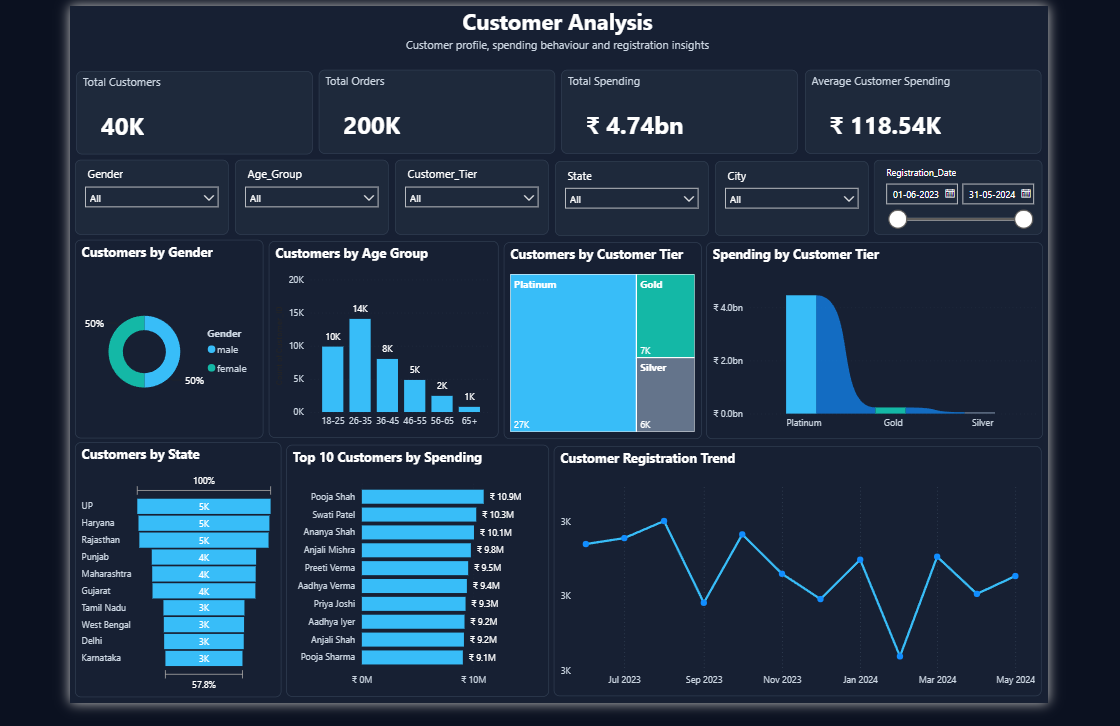

The dashboard page shown, as its layout file describes it:
{"tool":"powerbi","page":{"name":"Customer Analysis","canvas":[1304,930],"ordinal":0},"visuals":[{"type":"textbox","title":"Customer Analysis","box":[0,0,1300,76.1],"z":0},{"type":"cardVisual","title":"Total Customers","fields":{"Data":["_Measures.Total Customers"]},"box":[7.5,86.2,315,111.2],"z":1000},{"type":"cardVisual","title":"Total Orders","fields":{"Data":["_Measures.Total Customer Orders"]},"box":[332,85.7,315,112],"z":2000},{"type":"cardVisual","title":"Total Spending","fields":{"Data":["_Measures.Total Customer Spending"]},"box":[655.7,85.7,315,112],"z":3000},{"type":"cardVisual","title":"Average Customer Spending","fields":{"Data":["_Measures.Average Customer Spending"]},"box":[980,85.7,315,112],"z":4000},{"type":"donutChart","title":"Customers by Gender","fields":{"Category":["customers.Gender"],"Y":["Count(customers.Customer_ID)"]},"box":[6.9,311.1,251.4,265],"z":5000},{"type":"clusteredColumnChart","title":"Customers by Age Group","fields":{"Category":["customers.Age_Group"],"Y":["Count(customers.Customer_ID)"]},"box":[265,313.8,306.2,262],"z":6000},{"type":"treemap","title":"Customers by Customer Tier","fields":{"Group":["customers.Customer_Tier"],"Values":["Count(customers.Customer_ID)"]},"box":[577.8,315.3,263.9,262],"z":7000},{"type":"ribbonChart","title":"Spending by Customer Tier","fields":{"Category":["customers.Customer_Tier"],"Y":["_Measures.Total Customer Spending"]},"box":[848.6,315.3,449.2,262.5],"z":8000},{"type":"funnel","title":"Customers by State","fields":{"Category":["customers.State"],"Y":["_Measures.Total Customers"]},"box":[7.2,582.2,275,340.3],"z":9000},{"type":"clusteredBarChart","title":"Top 10 Customers by Spending","fields":{"Category":["customers.Customer_Name"],"Y":["_Measures.Total Customer Spending"]},"box":[288.9,584.7,350,335.8],"z":10000},{"type":"lineChart","title":"Customer Registration Trend","fields":{"Y":["Count(customers.Customer_ID)"],"Category":["customers.Registration_Date.Variation.Date Hierarchy.Year","customers.Registration_Date.Variation.Date Hierarchy.Month"]},"box":[645,586.7,650.7,333.3],"z":11000},{"type":"slicer","title":"Gender","fields":{"Values":["customers.Gender"]},"box":[7.4,204.6,205,100],"z":12000},{"type":"slicer","fields":{"Values":["customers.Age_Group"]},"box":[220,205,205,100],"z":13000},{"type":"slicer","fields":{"Values":["customers.Customer_Tier"]},"box":[434,205.7,205,100],"z":14000},{"type":"slicer","fields":{"Values":["customers.State"]},"box":[647,207,205,100],"z":15000},{"type":"slicer","fields":{"Values":["customers.City"]},"box":[860,206.2,205,100],"z":16000},{"type":"slicer","fields":{"Values":["customers.Registration_Date"]},"box":[1071.2,205,225,100.3],"z":17000}]}

Visuals, with their boxes on the page's 1304x930 design canvas (x1, y1, x2, y2). These are canvas units, not pixel positions in the 1120x726 screenshot, which may show the page scaled, cropped or inside an application window:
"Customer Analysis" textbox: detection(0, 0, 1300, 76)
"Total Customers" cardVisual: detection(8, 86, 322, 197)
"Total Orders" cardVisual: detection(332, 86, 647, 198)
"Total Spending" cardVisual: detection(656, 86, 971, 198)
"Average Customer Spending" cardVisual: detection(980, 86, 1295, 198)
"Customers by Gender" donutChart: detection(7, 311, 258, 576)
"Customers by Age Group" clusteredColumnChart: detection(265, 314, 571, 576)
"Customers by Customer Tier" treemap: detection(578, 315, 842, 577)
"Spending by Customer Tier" ribbonChart: detection(849, 315, 1298, 578)
"Customers by State" funnel: detection(7, 582, 282, 922)
"Top 10 Customers by Spending" clusteredBarChart: detection(289, 585, 639, 920)
"Customer Registration Trend" lineChart: detection(645, 587, 1296, 920)
"Gender" slicer: detection(7, 205, 212, 305)
slicer - customers.Age_Group: detection(220, 205, 425, 305)
slicer - customers.Customer_Tier: detection(434, 206, 639, 306)
slicer - customers.State: detection(647, 207, 852, 307)
slicer - customers.City: detection(860, 206, 1065, 306)
slicer - customers.Registration_Date: detection(1071, 205, 1296, 305)
